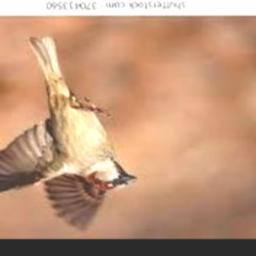Sparrow: (0, 36, 137, 232)
